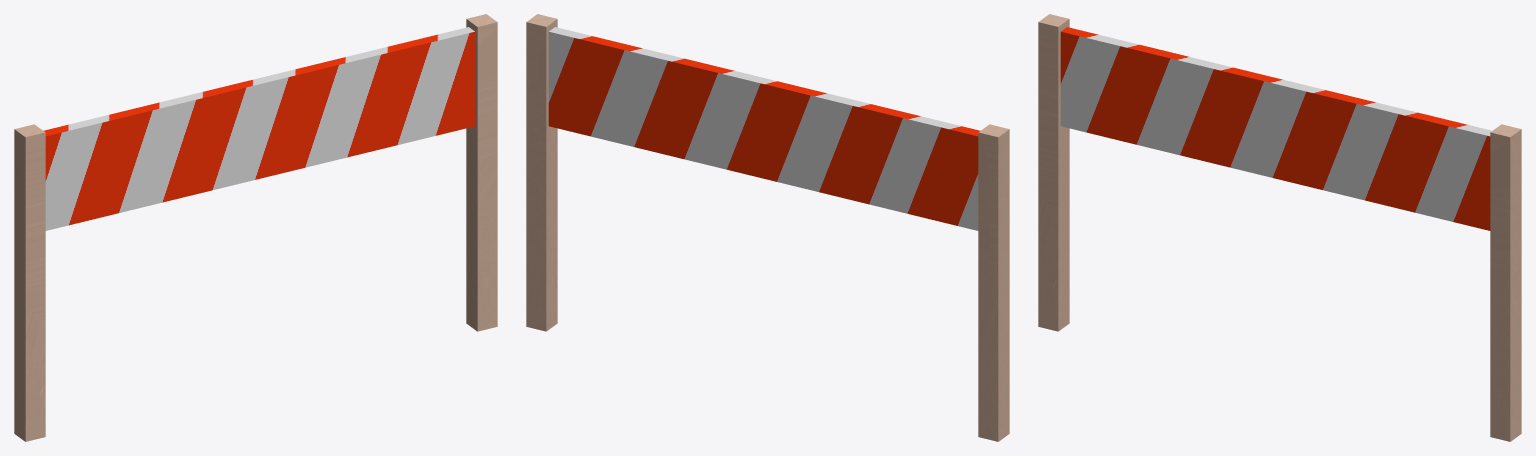
File: PlacaDeObstrução.fbx
3 renders of one model, left to right at view 1: azimuth 30°, elevation 25°; view 2: azimuth 150°, elevation 25°; view 3: azimuth 330°, elevation 25°, orthographic.
Visible parts, largest first — view 1: Barreira; view 2: Barreira; view 3: Barreira.
Part boxes in pixels (bbox=[...]): Barreira: bbox=[14, 14, 497, 441]; Barreira: bbox=[526, 14, 1009, 441]; Barreira: bbox=[1038, 14, 1521, 441].
Bounding box in the file's own units: 176 × 108 × 7.18.
